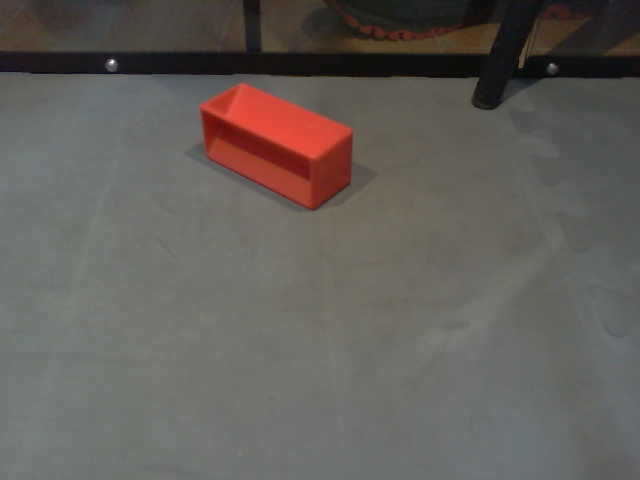RedSample: (198, 81, 355, 210)
